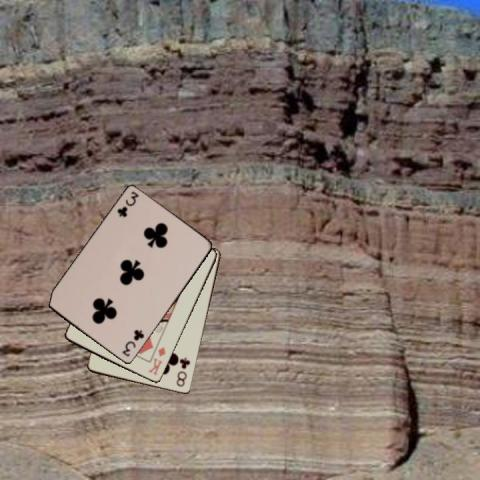3c: (119, 327, 146, 358), (114, 188, 140, 218)
8c: (174, 354, 192, 388)
Kd: (146, 344, 168, 377)
